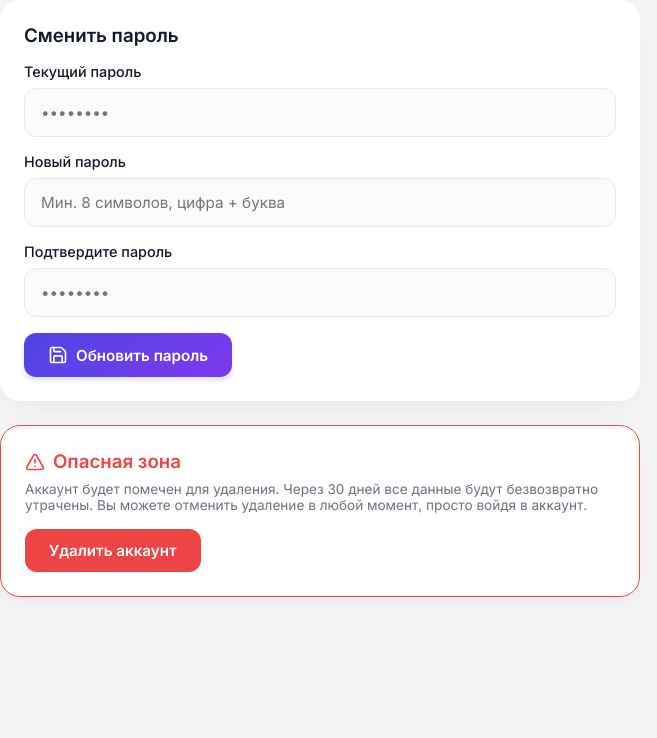
Test: SettingsSecurityPage v2 - account deletion › cancel button hides confirmation
Click the button "Удалить аккаунт" at (113, 550), box [25,529,201,572]
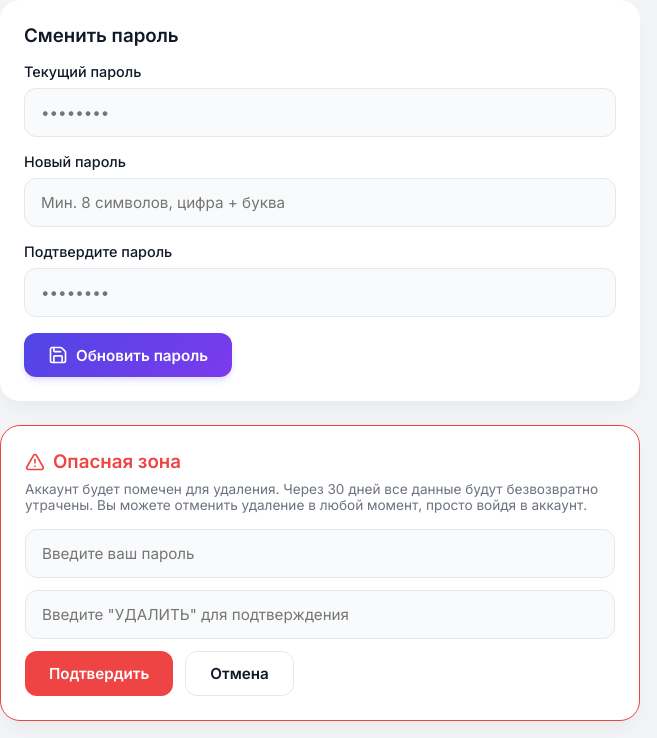
Expected: the button "Подтвердить" is shown, [25,651,173,696]
Click the button "Отмена" at (240, 674), box [185,651,294,696]
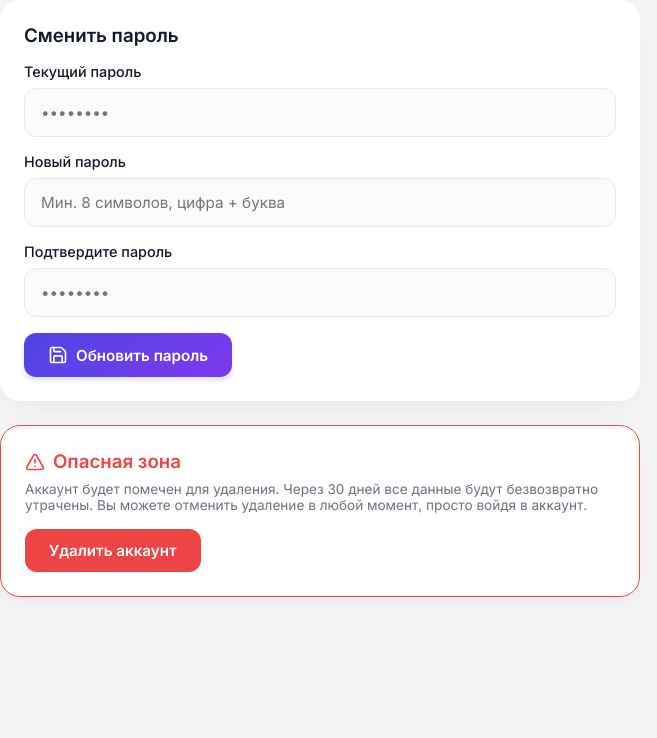
Expected: the button "Подтвердить" is gone
